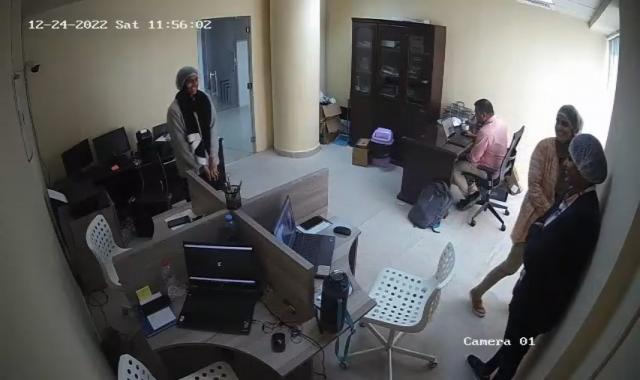hairnet: (564, 134, 604, 192), (553, 103, 584, 148), (172, 67, 200, 97)
no_hairnet: (473, 99, 495, 128)
